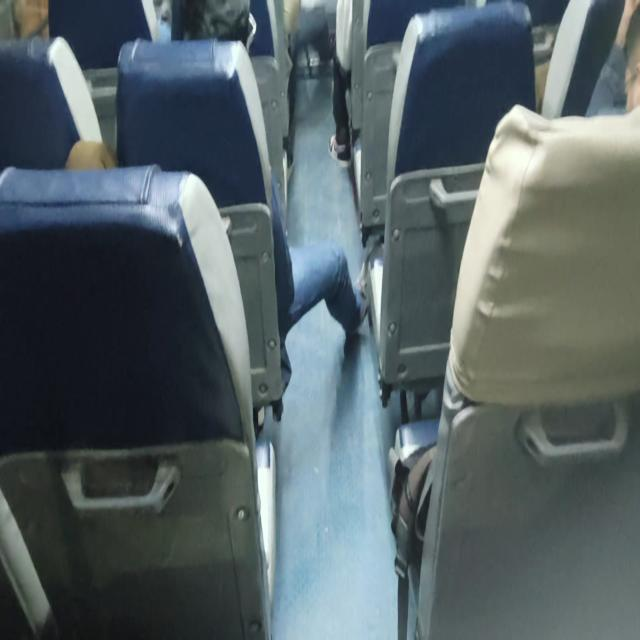person: (162, 0, 266, 77), (594, 0, 640, 111)
